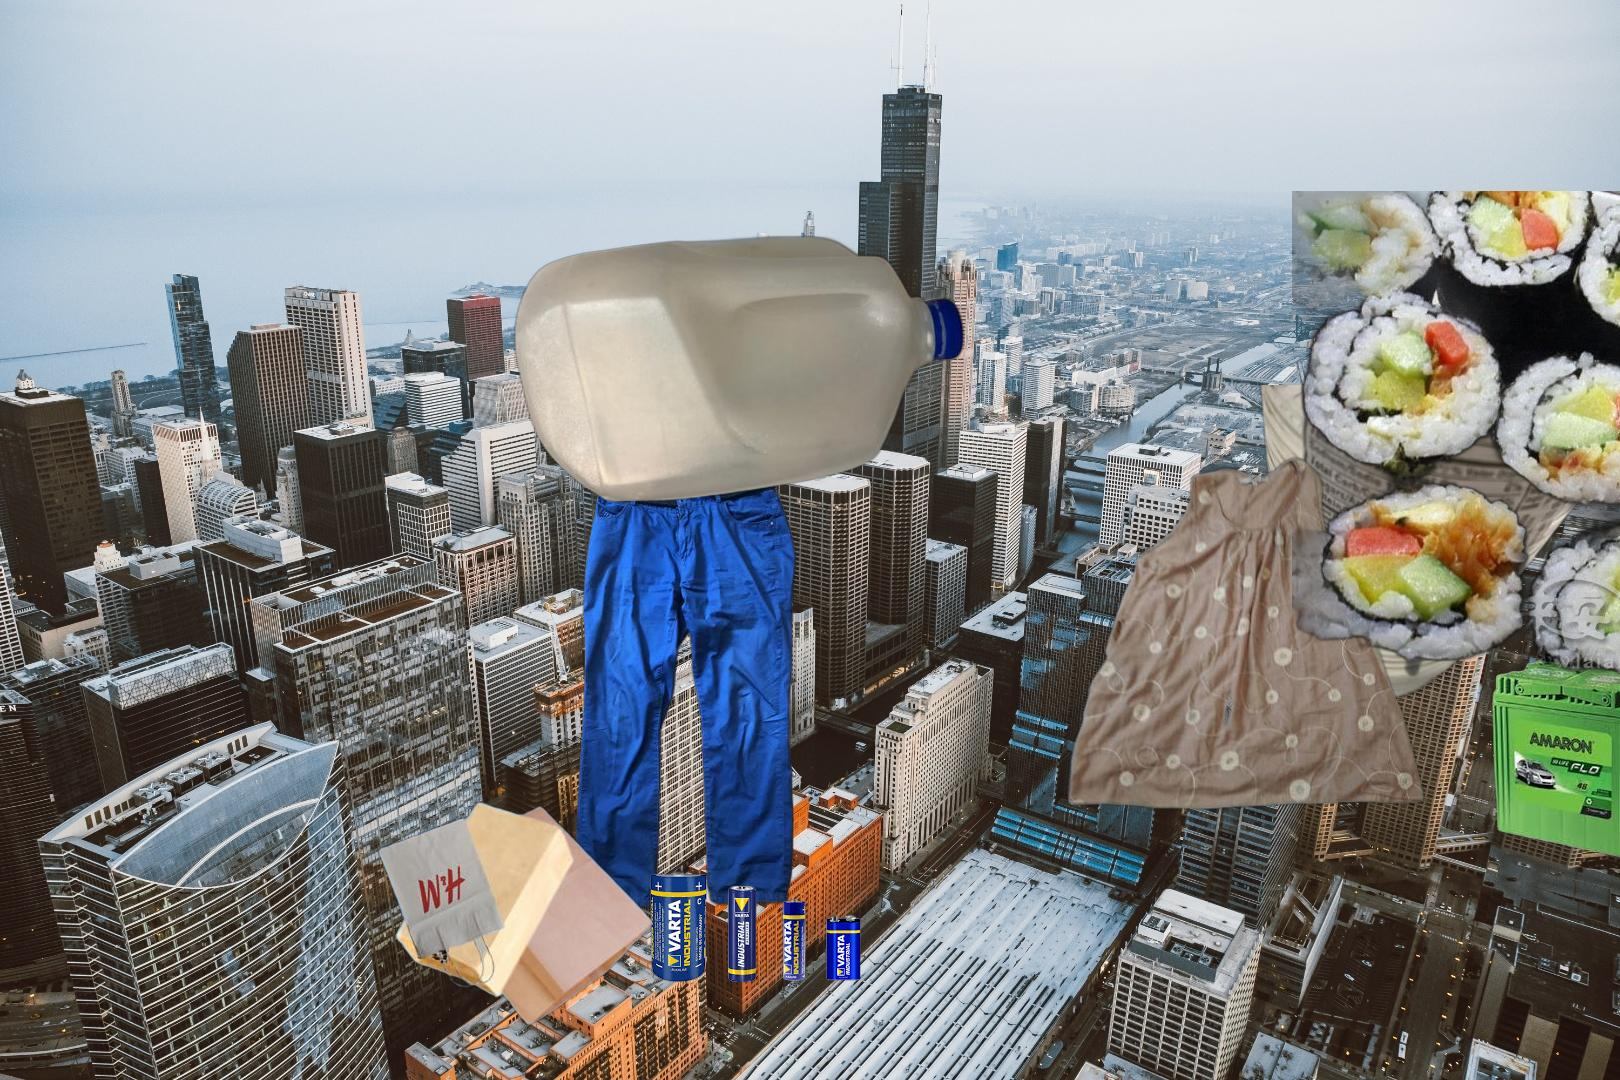battery: (1489, 638, 1620, 863), (648, 869, 864, 985)
biological: (1292, 190, 1620, 683)
clothes: (1064, 450, 1428, 812), (573, 464, 799, 912)
glass: (1255, 385, 1620, 709)
paper-bag: (375, 800, 656, 1028)
plastic-bottles: (511, 231, 969, 505)
